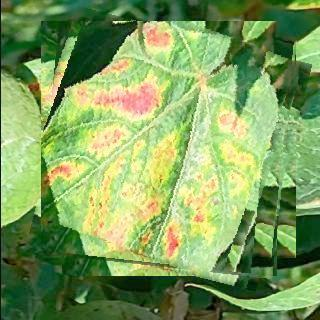blight: (40, 21, 298, 279)
